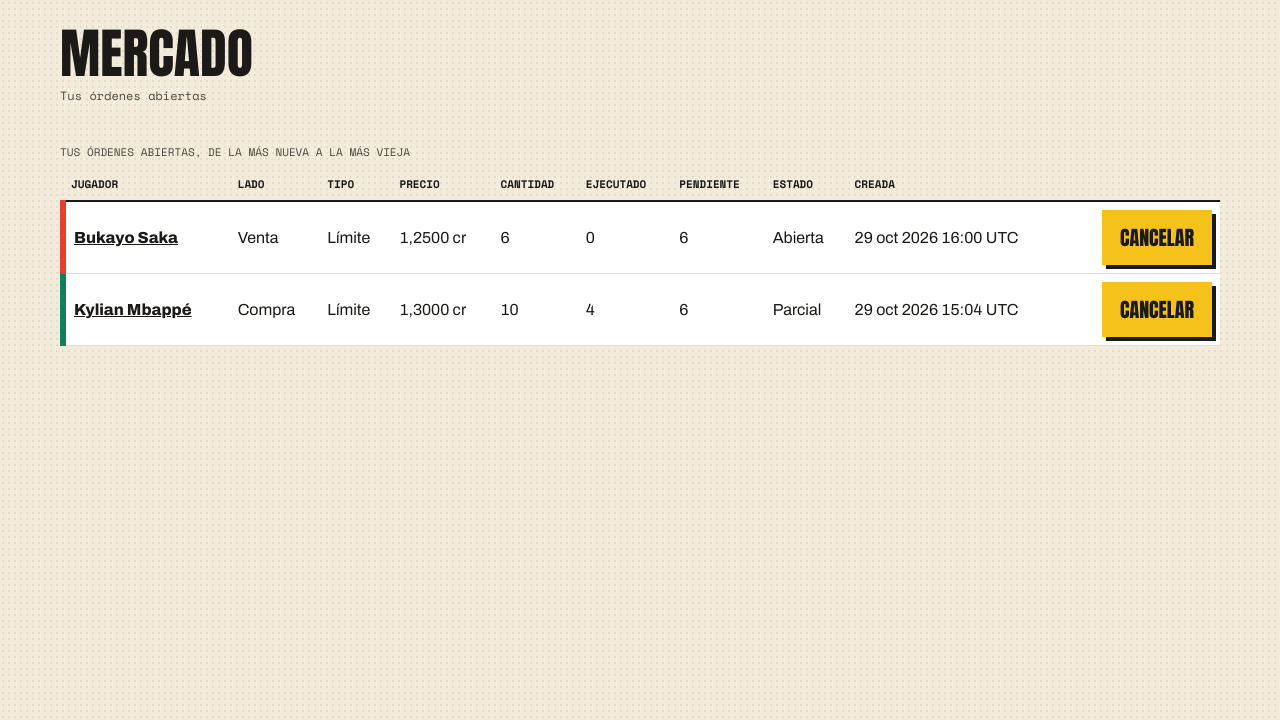
Scenario: MarketPage › asks for confirmation and does not cancel when going back
The image size is (1280, 720).
Expected: the table is shown, [60, 144, 1220, 346]
Click the button with aria-label "Cancelar orden de venta de Bukayo Saka". click: {"x": 1157, "y": 238}
box: [1102, 210, 1212, 265]
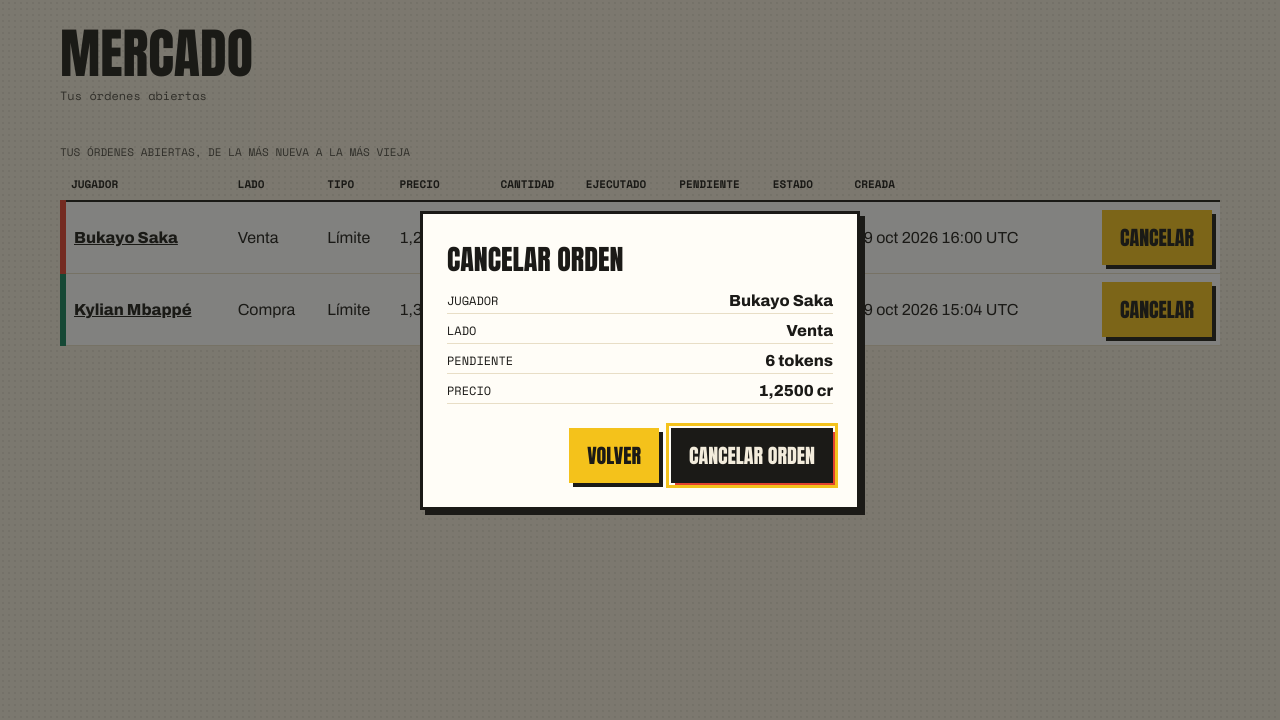
Result: the dialog shows "Bukayo Saka" at [729, 292, 833, 308]
Result: the dialog shows "Venta" at [786, 322, 833, 338]
Result: the dialog shows "6" at [765, 352, 833, 368]
Click the button "Volver". click: {"x": 614, "y": 455}
box: [569, 428, 659, 482]
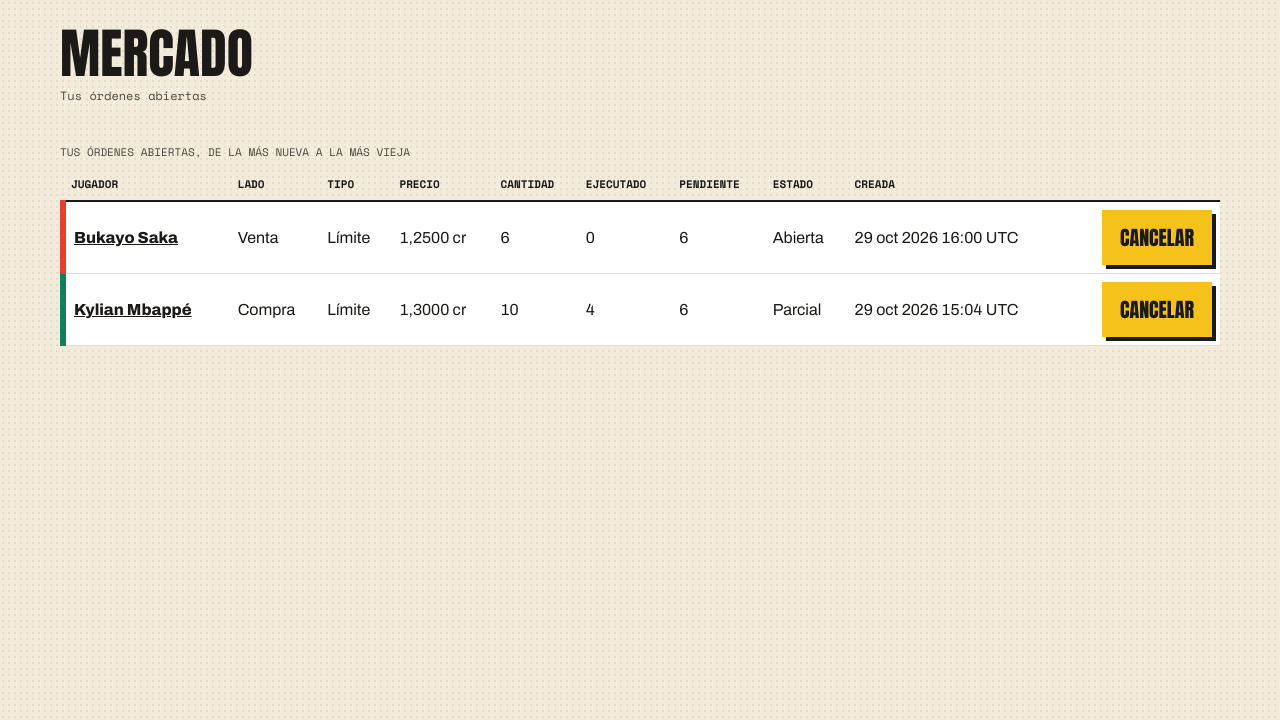
Result: the dialog is gone
